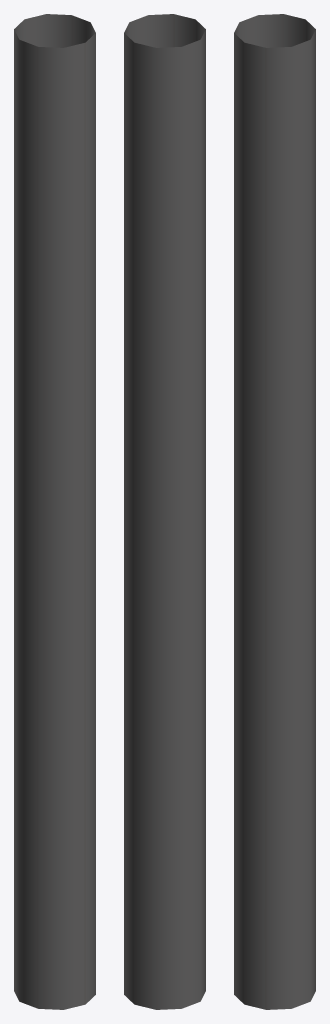
The model's file is rura1.fbx.
3 views of the same model, side by side, from view 1: azimuth 30°, elevation 25°; view 2: azimuth 150°, elevation 25°; view 3: azimuth 330°, elevation 25° (orthographic).
Visible parts, largest first — view 1: BézierCurve.001; view 2: BézierCurve.001; view 3: BézierCurve.001.
Part boxes in pixels (x1,y1,x2,y2): BézierCurve.001: [14, 14, 95, 1009]; BézierCurve.001: [124, 14, 205, 1009]; BézierCurve.001: [234, 14, 315, 1009].
Size of the model in its own units: 20.92 by 22 by 284.
